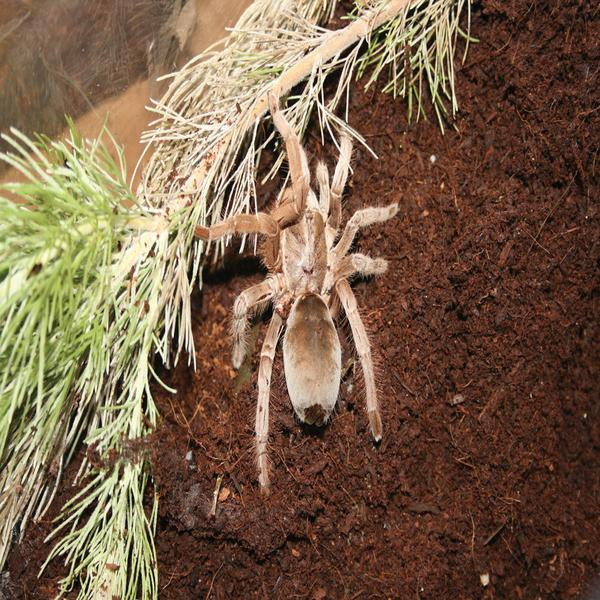Tarantula_Spider: (194, 91, 399, 486)
